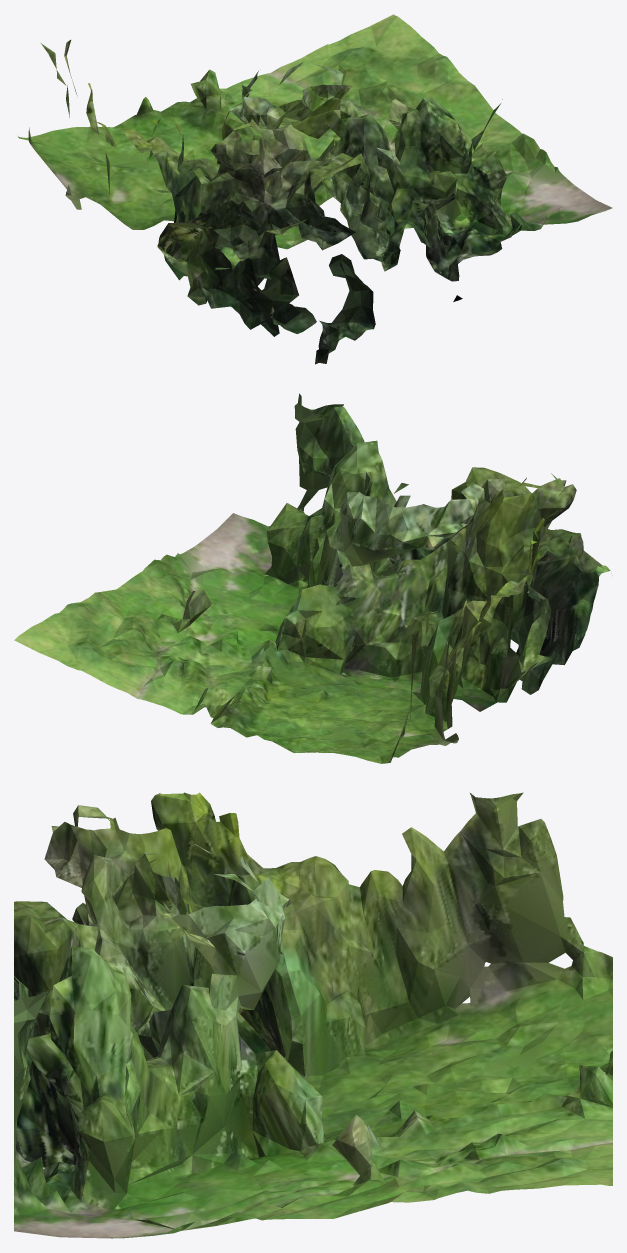
3 renders of one model, top to bottom at view 1: azimuth 30°, elevation 25°; view 2: azimuth 150°, elevation 25°; view 3: azimuth 270°, elevation 25°, orthographic. The views are drawn at different scales.
Size of the model in its own units: 26.11 by 14.81 by 26.11.
5 materials, 5 textured.
